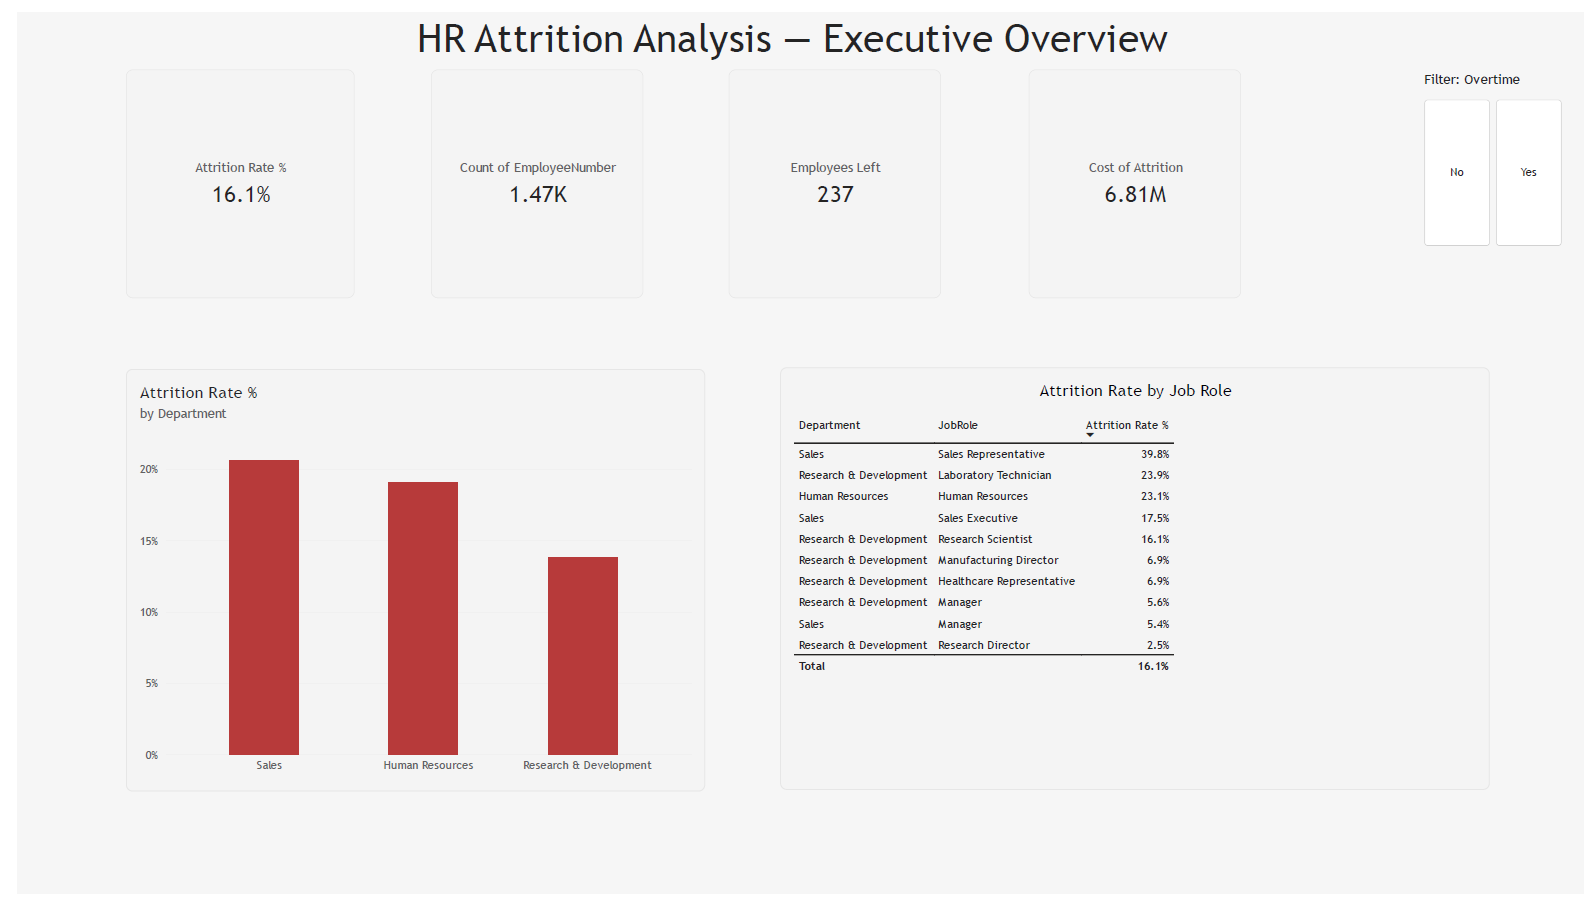

This screenshot's page, from the dashboard's own definition file:
{"tool":"powerbi","page":{"name":"Executive Overview","canvas":[1920,1080],"ordinal":0},"visuals":[{"type":"cardVisual","fields":{"Data":["hr_attrition_cleaned.Attrition Rate %"]},"box":[133.3,70,280,280],"z":0},{"type":"cardVisual","fields":{"Data":["CountNonNull(hr_attrition_cleaned.EmployeeNumber)"]},"box":[506.7,70,260,280],"z":1000},{"type":"cardVisual","fields":{"Data":["Sum(hr_attrition_cleaned.AttritionFlag)"]},"box":[871.7,70,260,280],"z":2000},{"type":"cardVisual","fields":{"Data":["hr_attrition_cleaned.Cost of Attrition"]},"box":[1240,70,260,280],"z":3000},{"type":"clusteredColumnChart","fields":{"Category":["hr_attrition_cleaned.Department"],"Y":["hr_attrition_cleaned.Attrition Rate %"]},"box":[133.3,436.7,710,518.3],"z":4000},{"type":"tableEx","title":"Attrition Rate by Job Role","fields":{"Values":["hr_attrition_cleaned.Department","hr_attrition_cleaned.JobRole","hr_attrition_cleaned.Attrition Rate %"]},"box":[935,435,870,518.3],"z":5000},{"type":"advancedSlicerVisual","title":"Filter: Overtime","fields":{"Values":["hr_attrition_cleaned.OverTime"]},"box":[1725,70,168.3,216.7],"z":6000},{"type":"textbox","box":[490,0,1010,70],"z":7000}]}

Visuals, with their boxes in screenshot pixels (x1, y1, x2, y2), scaled from the page's 1920x1080 canvas onto the 1588x900 screenshot:
cardVisual - hr_attrition_cleaned.Attrition Rate %: x1=110, y1=58, x2=342, y2=292
cardVisual - CountNonNull(hr_attrition_cleaned.EmployeeNumber): x1=419, y1=58, x2=634, y2=292
cardVisual - Sum(hr_attrition_cleaned.AttritionFlag): x1=721, y1=58, x2=936, y2=292
cardVisual - hr_attrition_cleaned.Cost of Attrition: x1=1026, y1=58, x2=1241, y2=292
clusteredColumnChart - hr_attrition_cleaned.Department x hr_attrition_cleaned.Attrition Rate %: x1=110, y1=364, x2=697, y2=796
"Attrition Rate by Job Role" tableEx: x1=773, y1=362, x2=1493, y2=794
"Filter: Overtime" advancedSlicerVisual: x1=1427, y1=58, x2=1566, y2=239
textbox: x1=405, y1=0, x2=1241, y2=58
